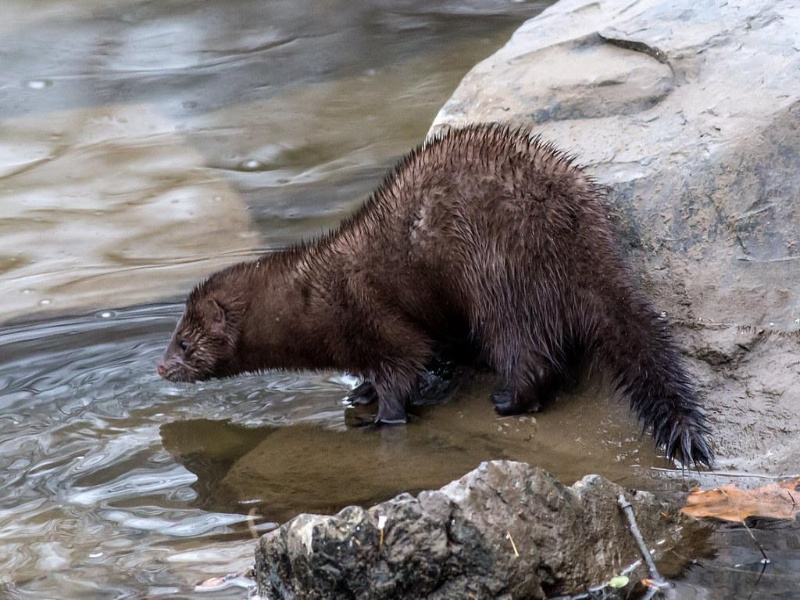minkish: (152, 121, 721, 470)
